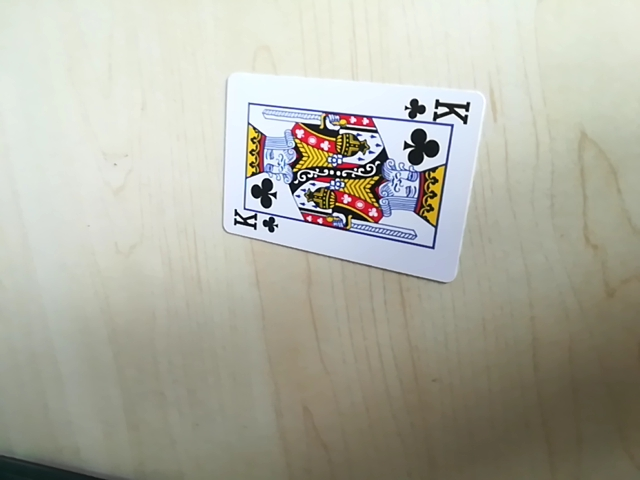mh k: (404, 95, 475, 124), (227, 207, 277, 236)
